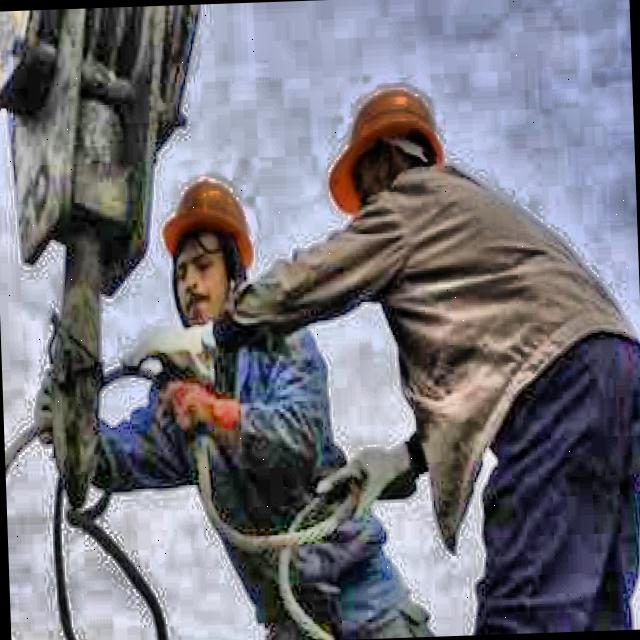helmet: (324, 68, 464, 235), (150, 152, 260, 336)
